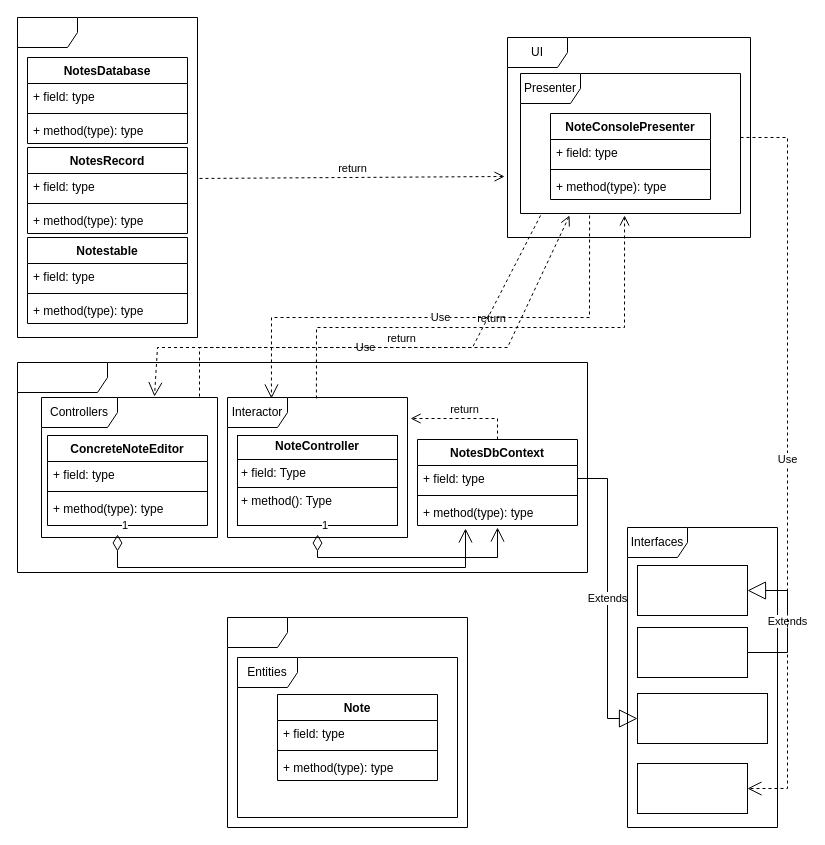
The diagram is 825 pixels wide and 845 high, and some of its shapes have lost their labels. The shapes that lost their labels are listed below. From the top down, each one's centre as x and y in pixels, then its label:
At (x=107, y=177): "Database".
At (x=302, y=467): "Busines logic".
At (x=692, y=590): "«interface» Editor".
At (x=692, y=652): "«interface» NoteEditor".
At (x=347, y=722): "Domain".
At (x=702, y=718): "«interface» NotesDatabaseContext".
At (x=692, y=788): "«interface» NotesPresenter".
